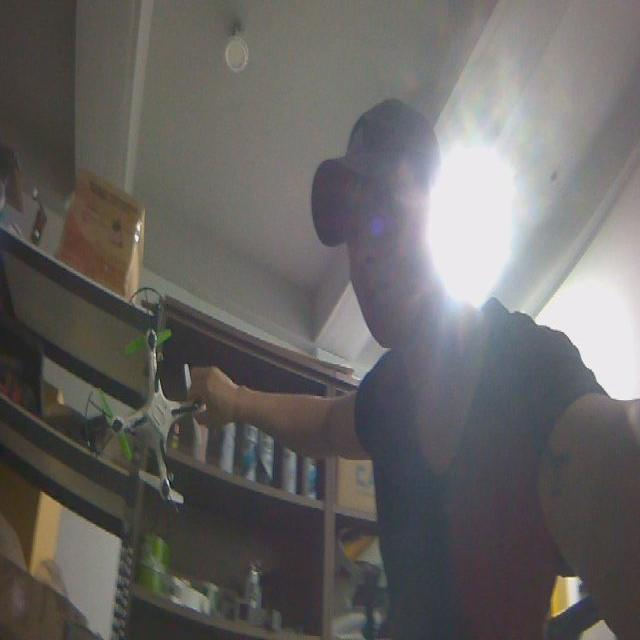drone: (82, 282, 221, 537)
